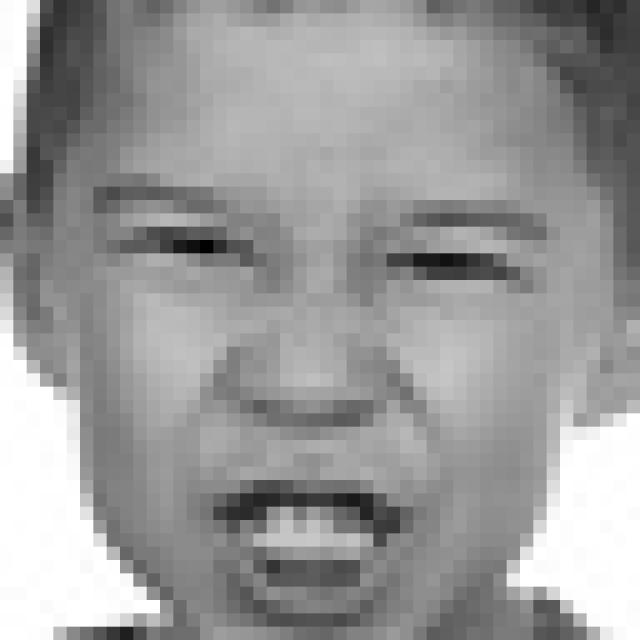angry: (102, 177, 540, 624)
